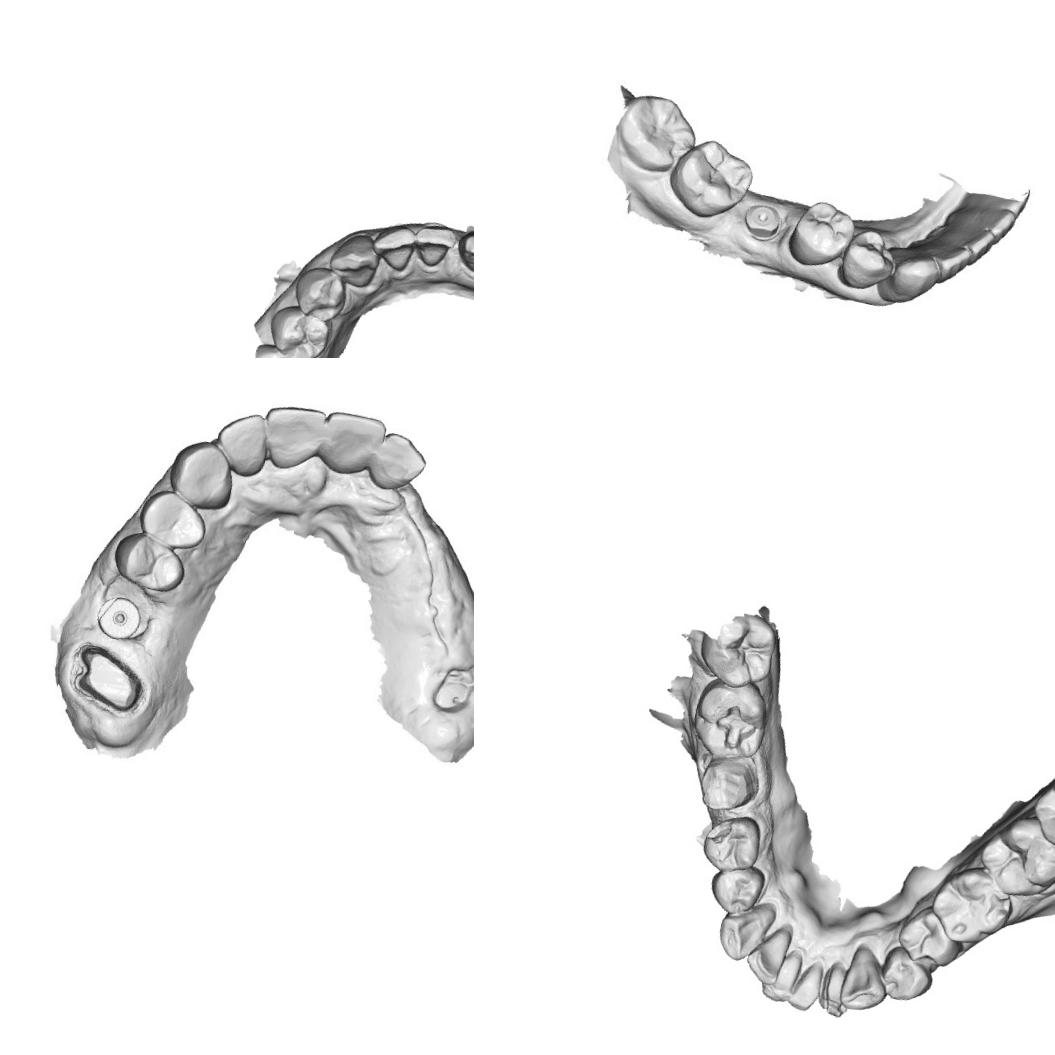canine: (162, 432, 244, 514), (711, 894, 778, 968), (836, 940, 896, 1016), (322, 224, 387, 293), (878, 242, 940, 312)
crown: (65, 643, 150, 717), (692, 748, 766, 819)
implant: (89, 590, 149, 647), (740, 196, 785, 244)
incisor: (313, 404, 391, 482), (256, 398, 331, 472), (210, 405, 280, 478), (371, 429, 432, 498), (900, 233, 975, 287), (742, 921, 796, 990), (946, 196, 1018, 240), (758, 944, 807, 1007), (406, 218, 460, 272), (931, 218, 997, 262), (369, 217, 420, 273), (814, 956, 854, 1020), (786, 954, 826, 1016), (452, 220, 474, 280)
inlay: (708, 697, 764, 756)
molar: (662, 132, 760, 228), (924, 858, 1020, 954), (609, 84, 705, 179), (971, 807, 1055, 909), (691, 606, 784, 696), (1024, 761, 1055, 856)
premolar: (782, 193, 862, 277), (106, 529, 192, 598), (134, 485, 214, 554), (893, 899, 968, 971), (696, 807, 768, 879), (834, 225, 904, 296), (286, 258, 354, 326), (874, 942, 940, 1008), (262, 301, 335, 358), (705, 858, 768, 920)
